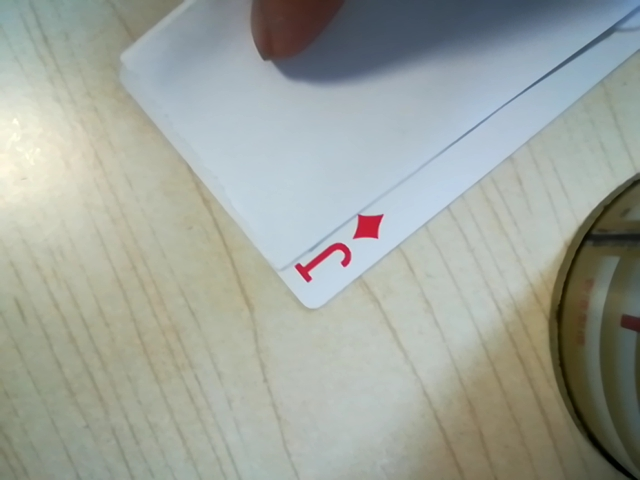fk j: (290, 204, 392, 289)
